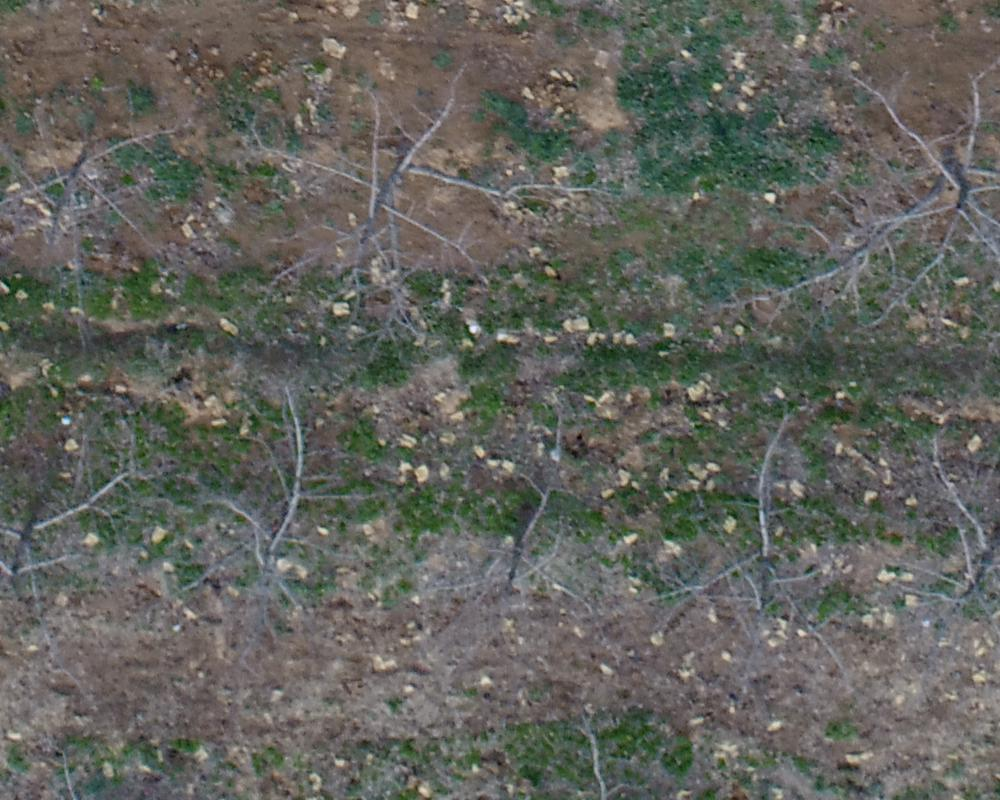apple: (242, 64, 552, 333), (737, 52, 990, 352), (637, 378, 858, 678), (183, 374, 380, 636), (426, 406, 611, 643), (10, 79, 199, 303), (10, 422, 159, 640), (891, 436, 990, 645)
